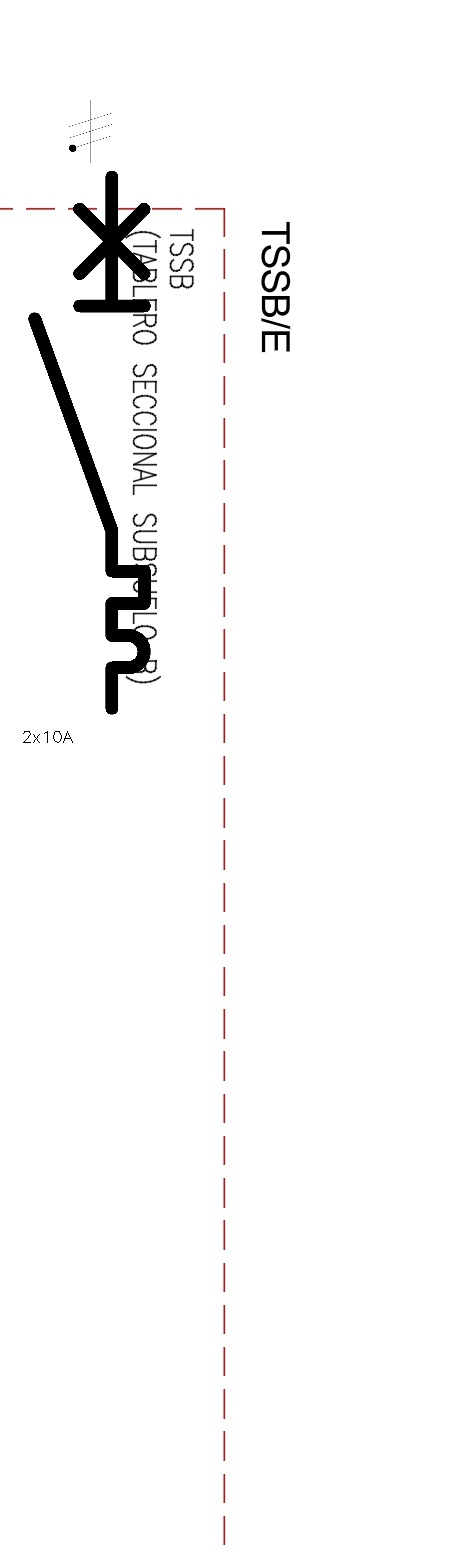interruptor_termomagnetico: (21, 163, 158, 722)
